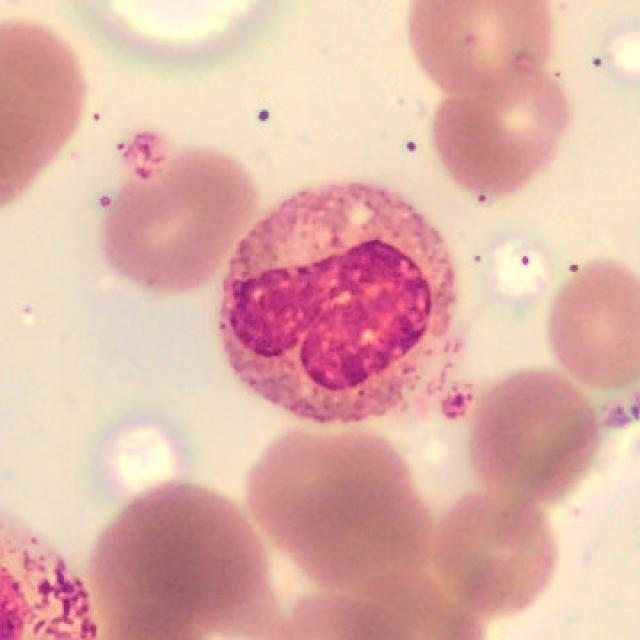Bastonete: (219, 183, 459, 425)
